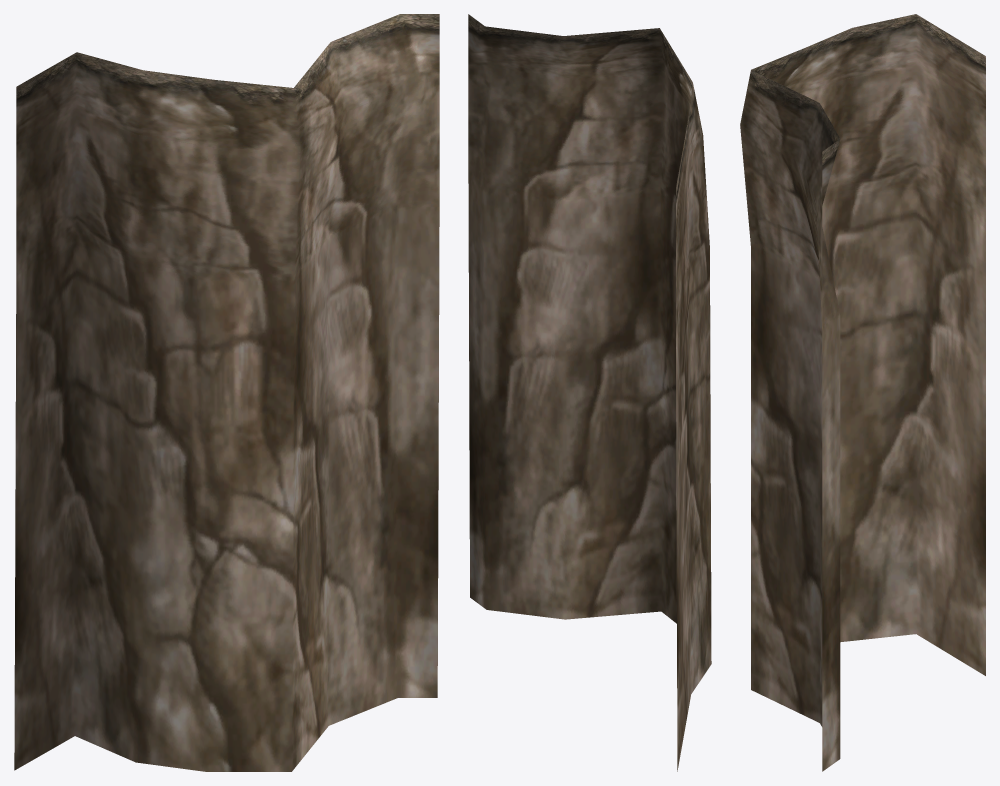
Rendered from OVERHILL_A_01_LINE65.fbx.
3 views of the same model, side by side, from view 1: azimuth 30°, elevation 25°; view 2: azimuth 150°, elevation 25°; view 3: azimuth 270°, elevation 25° (orthographic). The views are drawn at different scales.
Parts seen in each view (by area): view 1: OVERHILL_A_01_LINE65; view 2: OVERHILL_A_01_LINE65; view 3: OVERHILL_A_01_LINE65.
Boxes of the visible parts, x1,y1,x2,y2 form: OVERHILL_A_01_LINE65: [14, 14, 439, 771]; OVERHILL_A_01_LINE65: [468, 14, 711, 771]; OVERHILL_A_01_LINE65: [740, 14, 985, 771].
Bounding box in the file's own units: 69426 × 146669 × 48541.
Materials: 2 (2 with a texture image).
